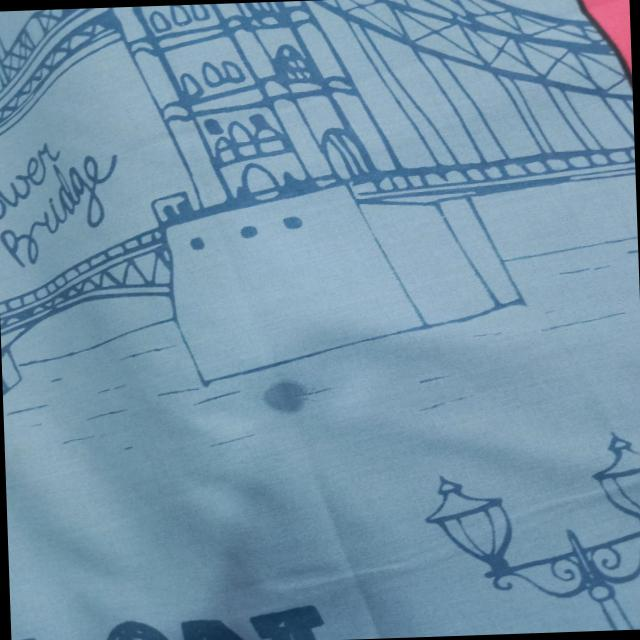stain: (256, 369, 312, 421)
